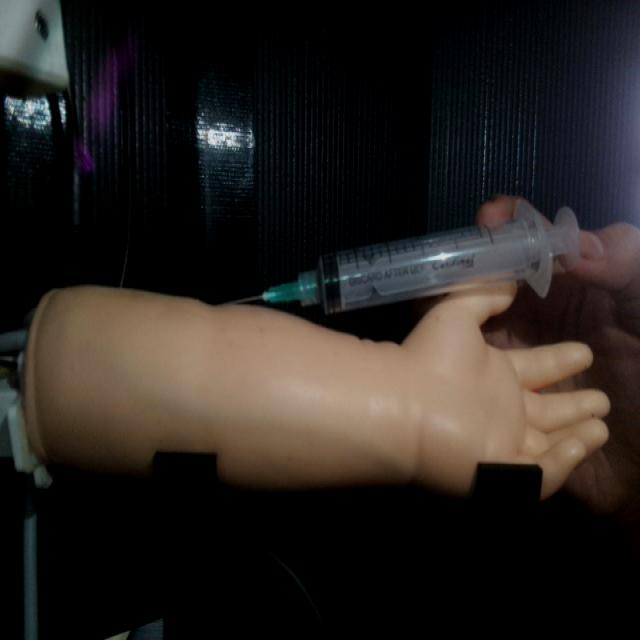Below 15 degrees: (228, 195, 582, 317)
